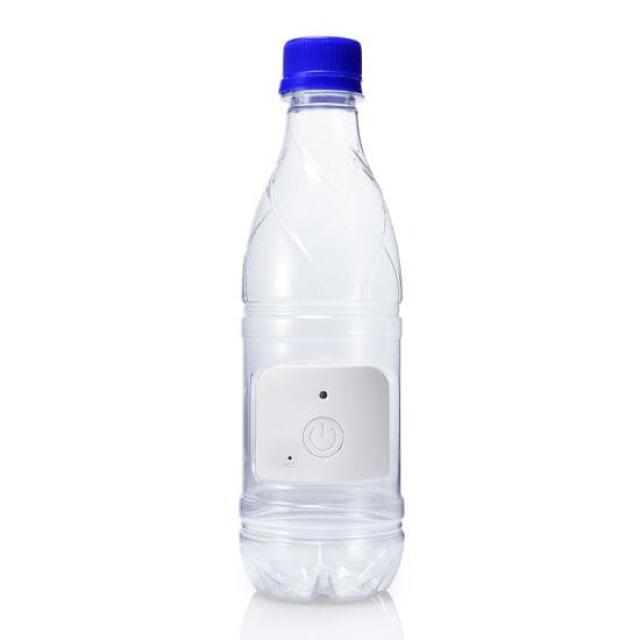bottle: (232, 33, 410, 607)
